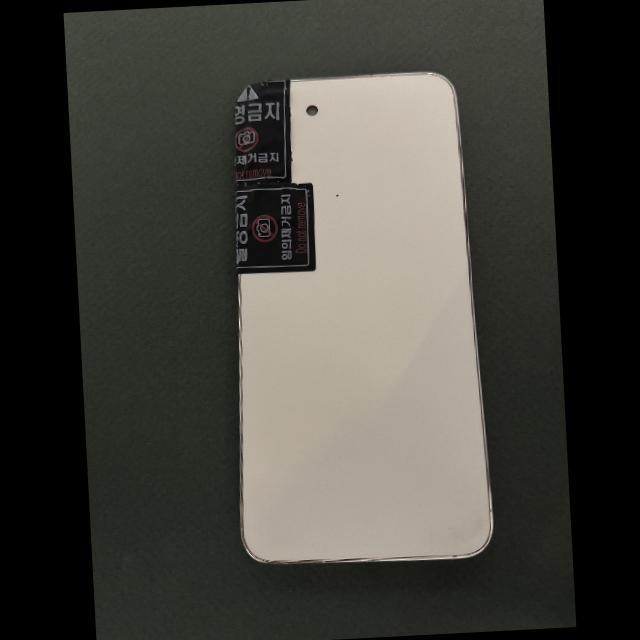phone: (232, 72, 493, 563)
sticker: (232, 80, 292, 188)
